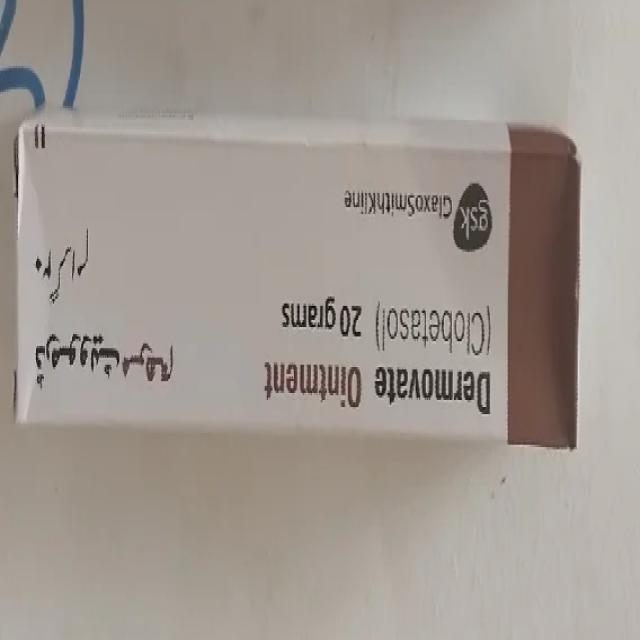drug-name: (253, 357, 494, 412)
